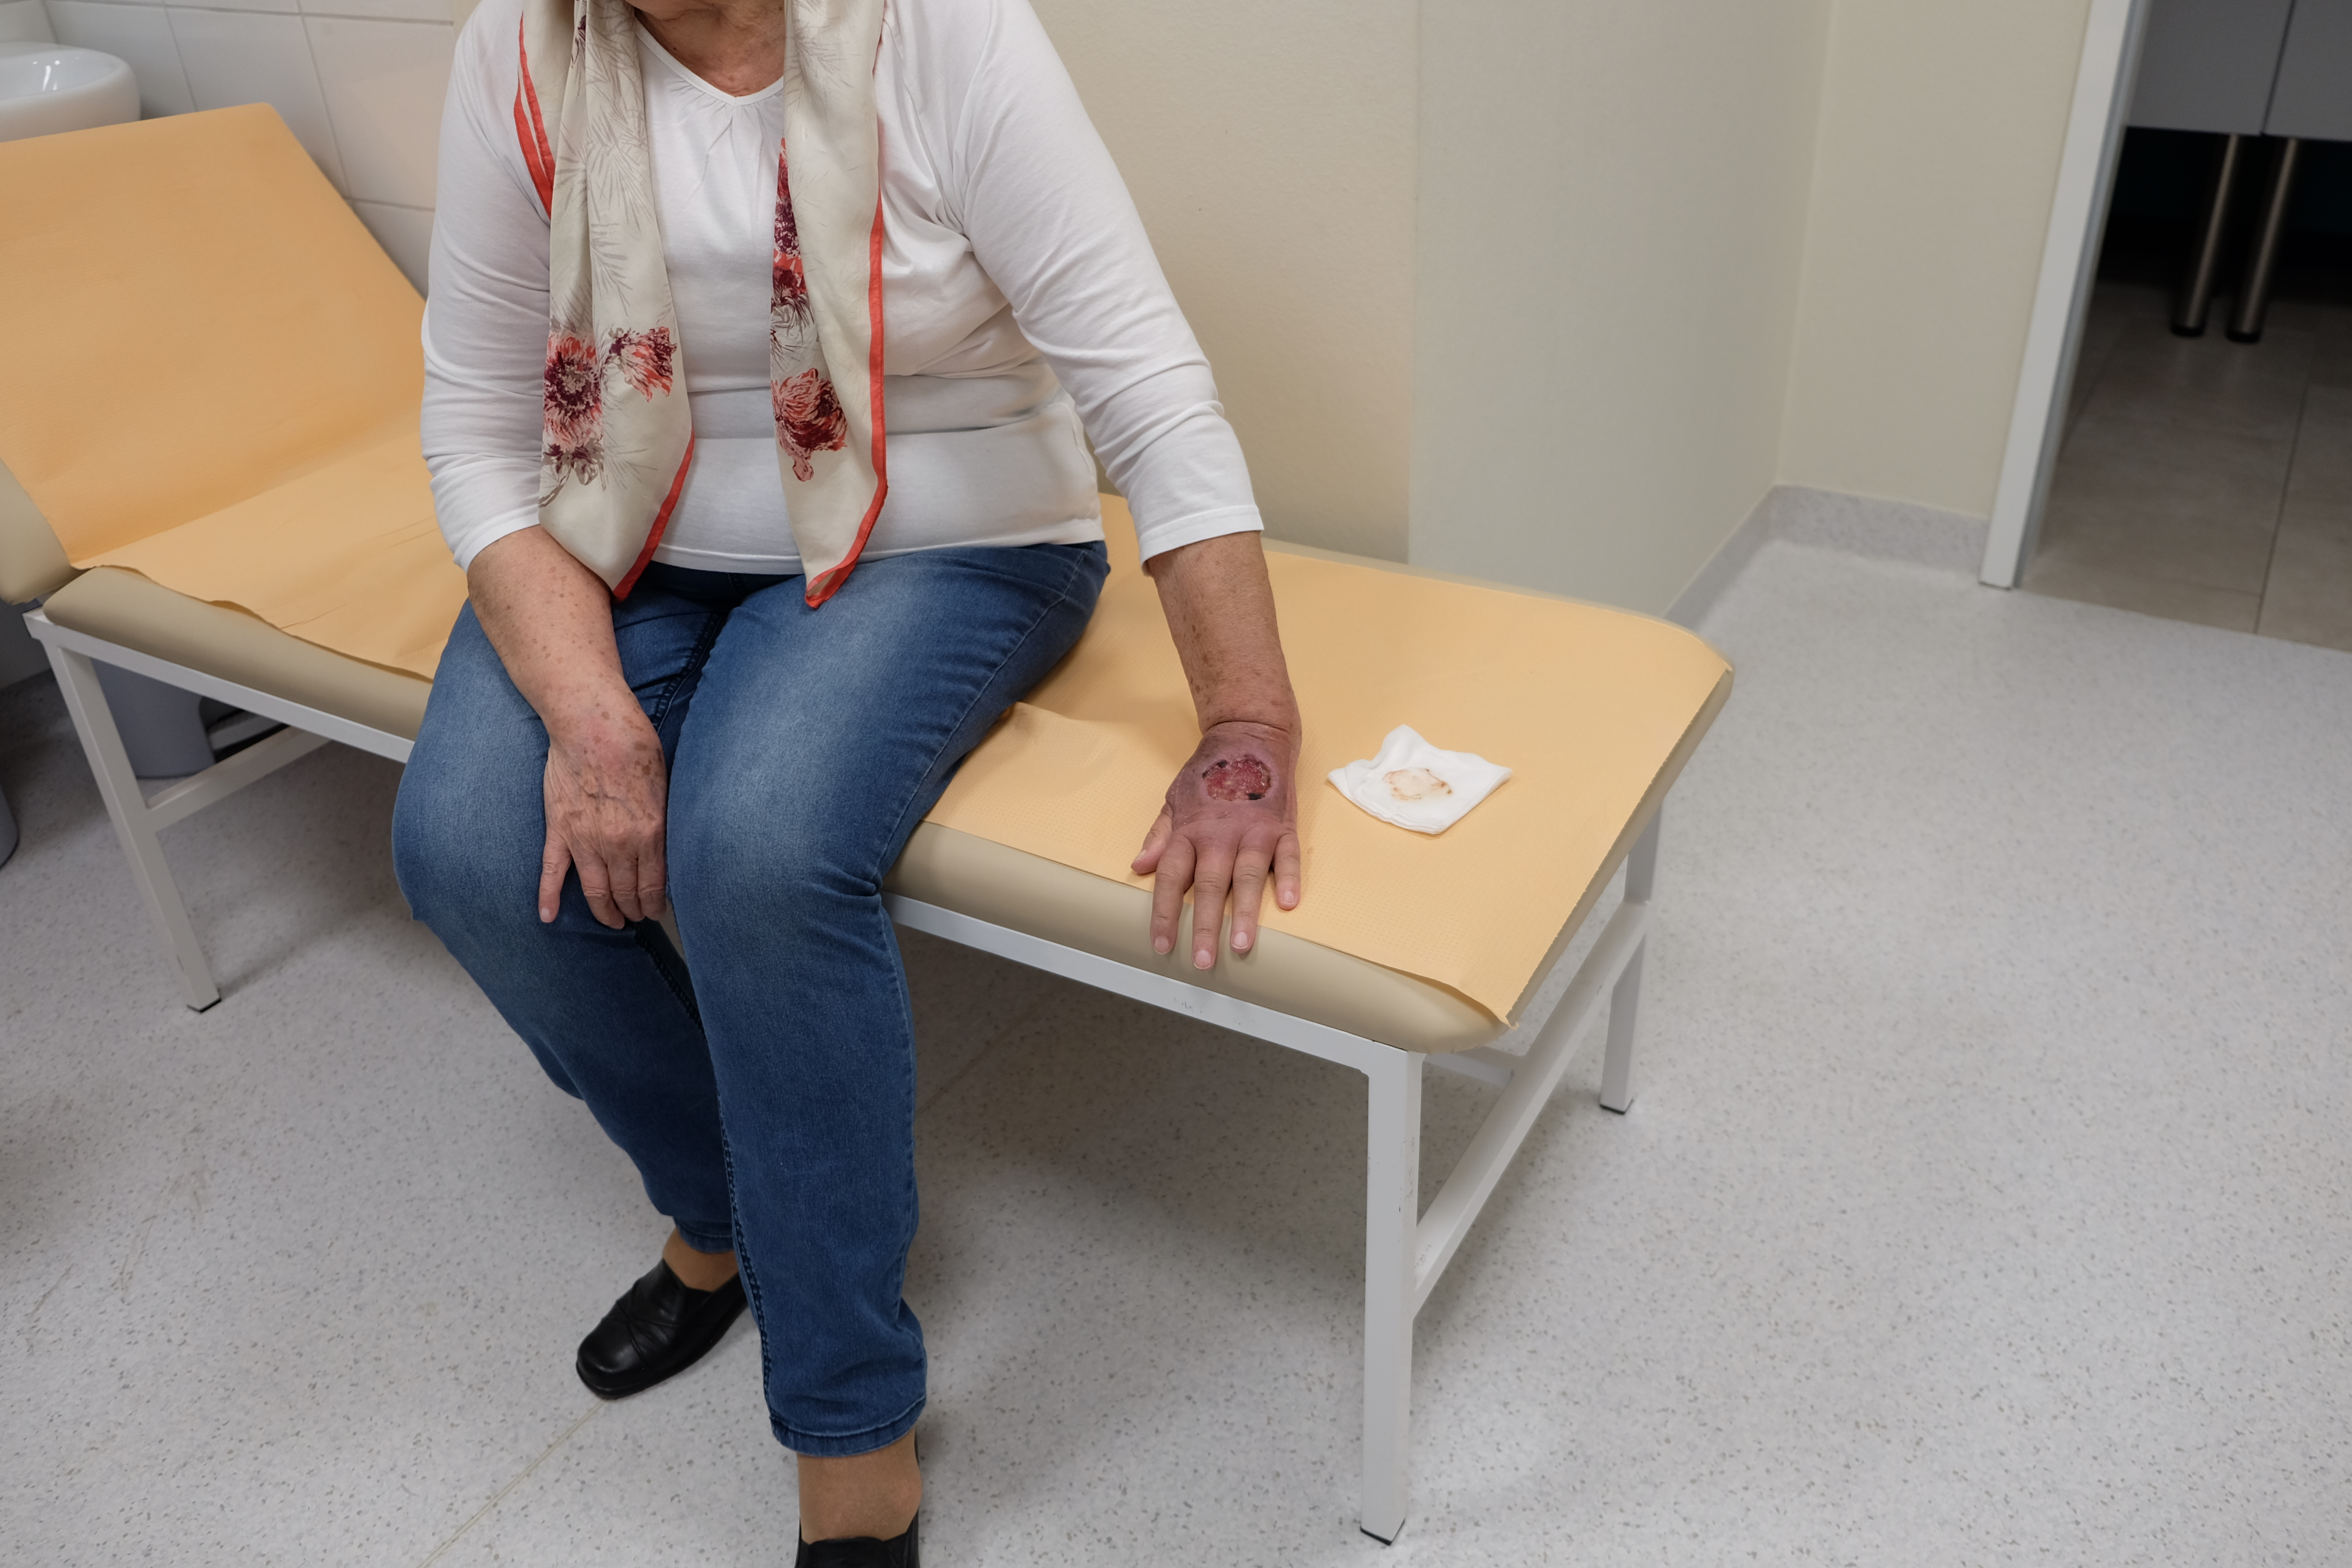wound: (1197, 747, 1279, 810)
